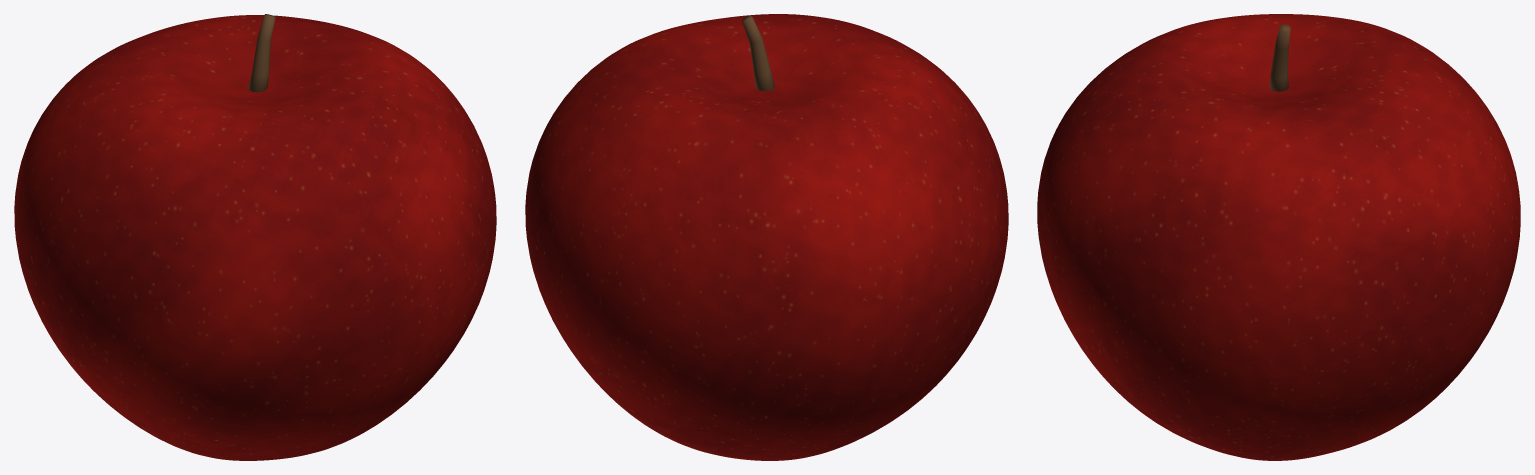
File: whole_red_apple.glb
The picture shows the model from 3 angles, left to right: view 1: azimuth 30°, elevation 25°; view 2: azimuth 150°, elevation 25°; view 3: azimuth 270°, elevation 25°; orthographic projection.
Visible parts, largest first — view 1: Gently asymmetric apple skin, Curved short stalk; view 2: Gently asymmetric apple skin, Curved short stalk; view 3: Gently asymmetric apple skin, Curved short stalk.
Part boxes in pixels (x1,y1,x2,y2): Gently asymmetric apple skin: (14, 15, 496, 460); Curved short stalk: (248, 14, 275, 92); Gently asymmetric apple skin: (525, 14, 1008, 460); Curved short stalk: (742, 16, 774, 90); Gently asymmetric apple skin: (1037, 14, 1520, 460); Curved short stalk: (1269, 24, 1290, 91).
Size of the model in its own units: 0.0844 by 0.0793 by 0.0844.
4 materials, 1 textured.
